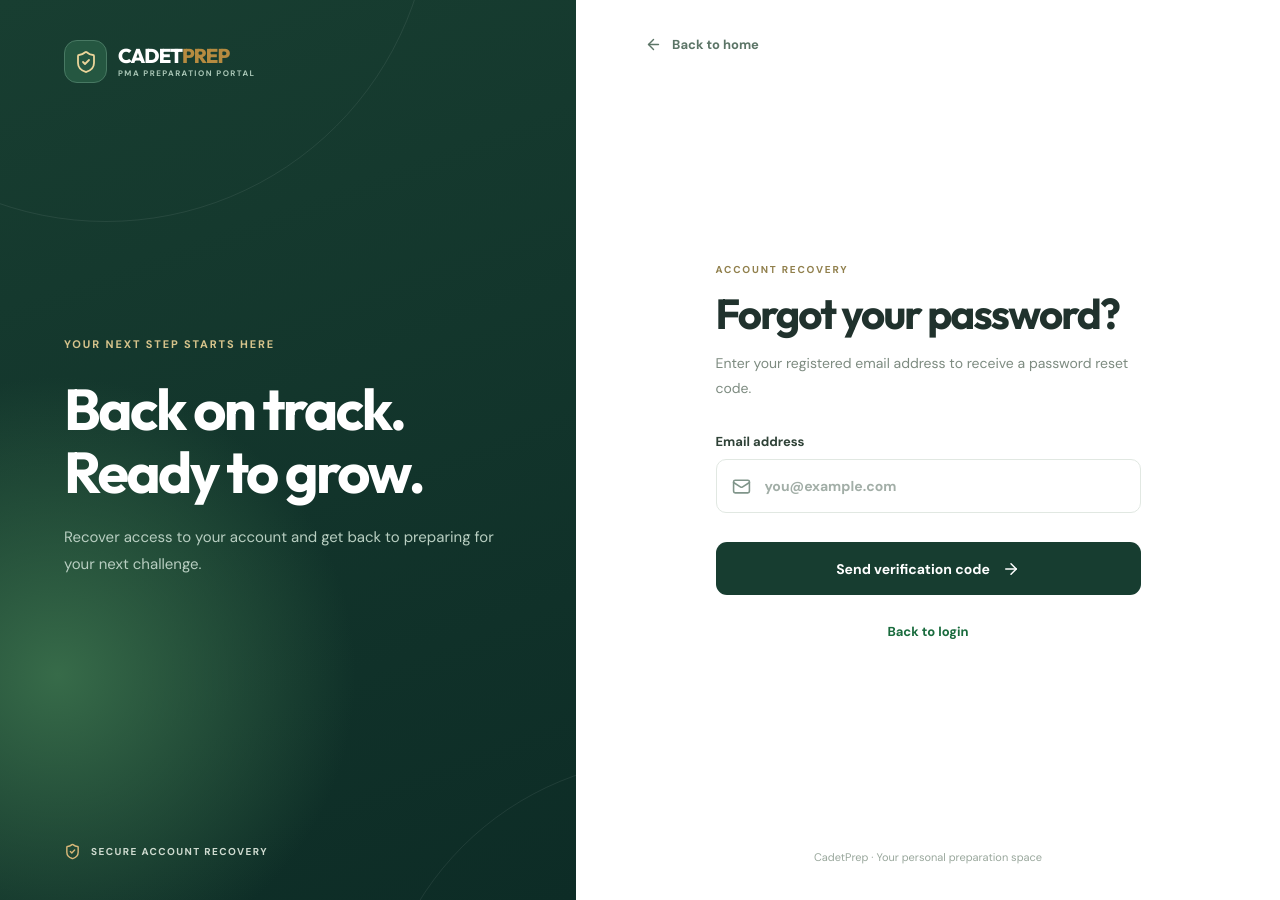
incorrect recovery codes cannot update any account password
Click the field with placeholder "you@example.com": (944, 486) [762,476,1124,496]
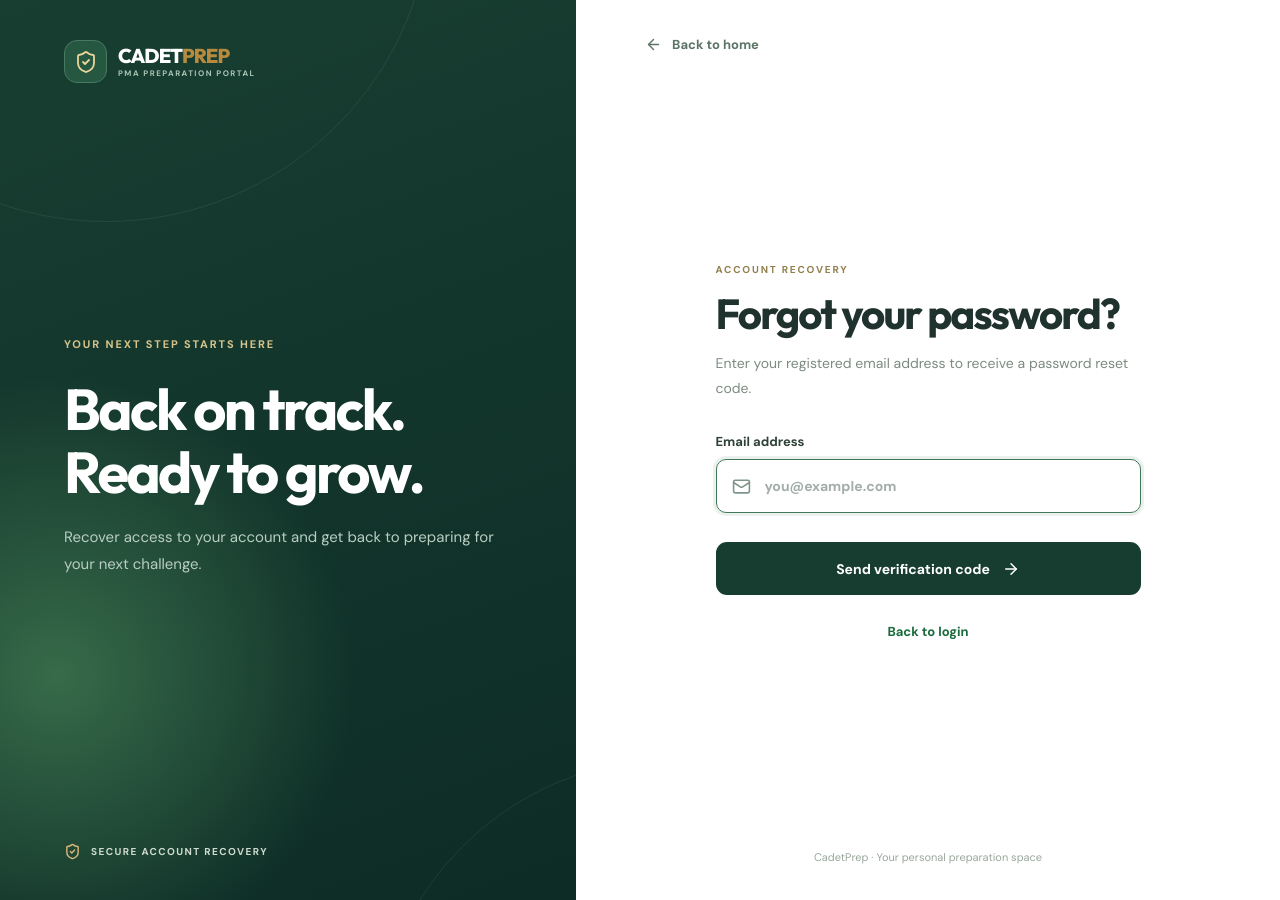
Type keys "cadet@example.test"
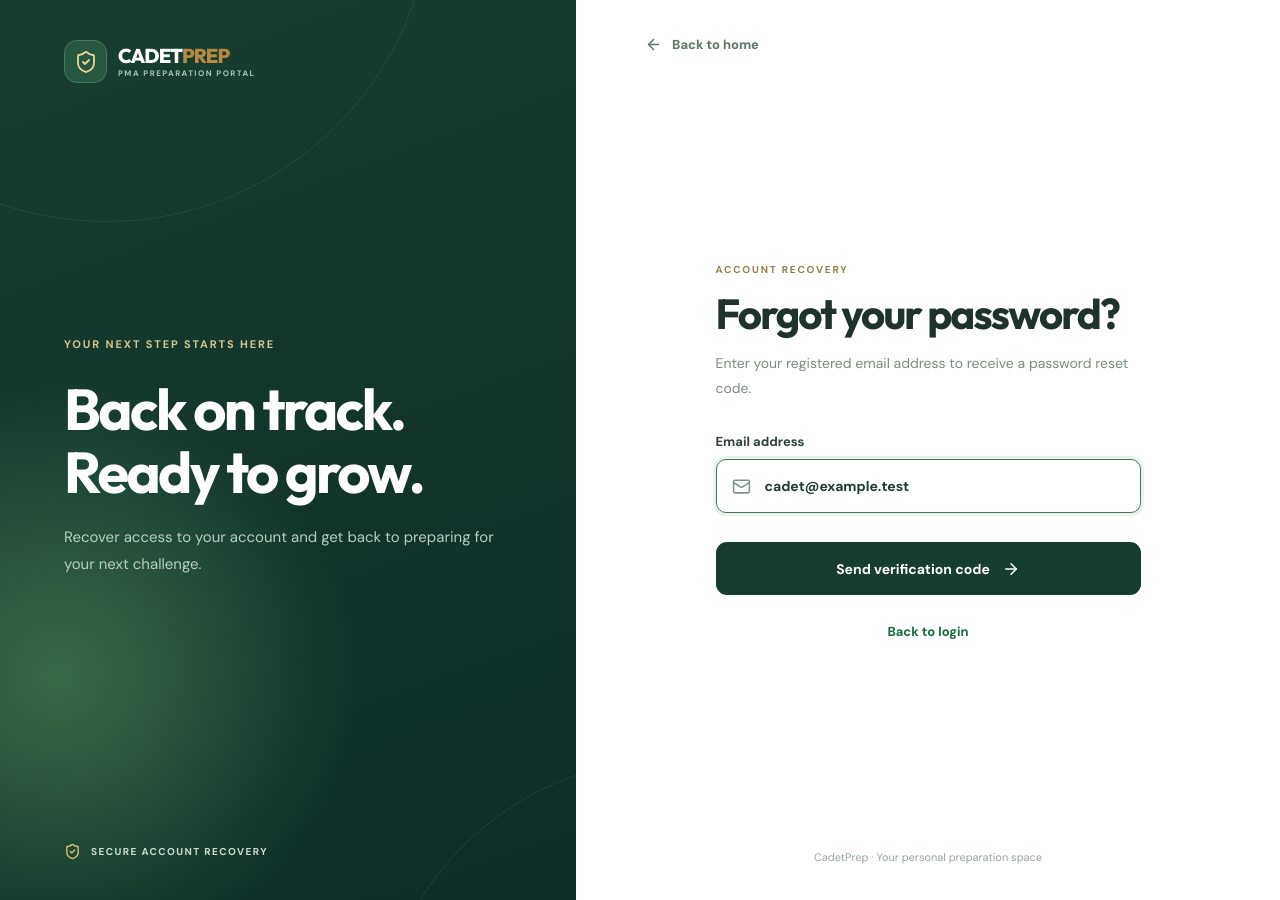
Click the button "Send verification code": (928, 569) [716,542,1140,595]
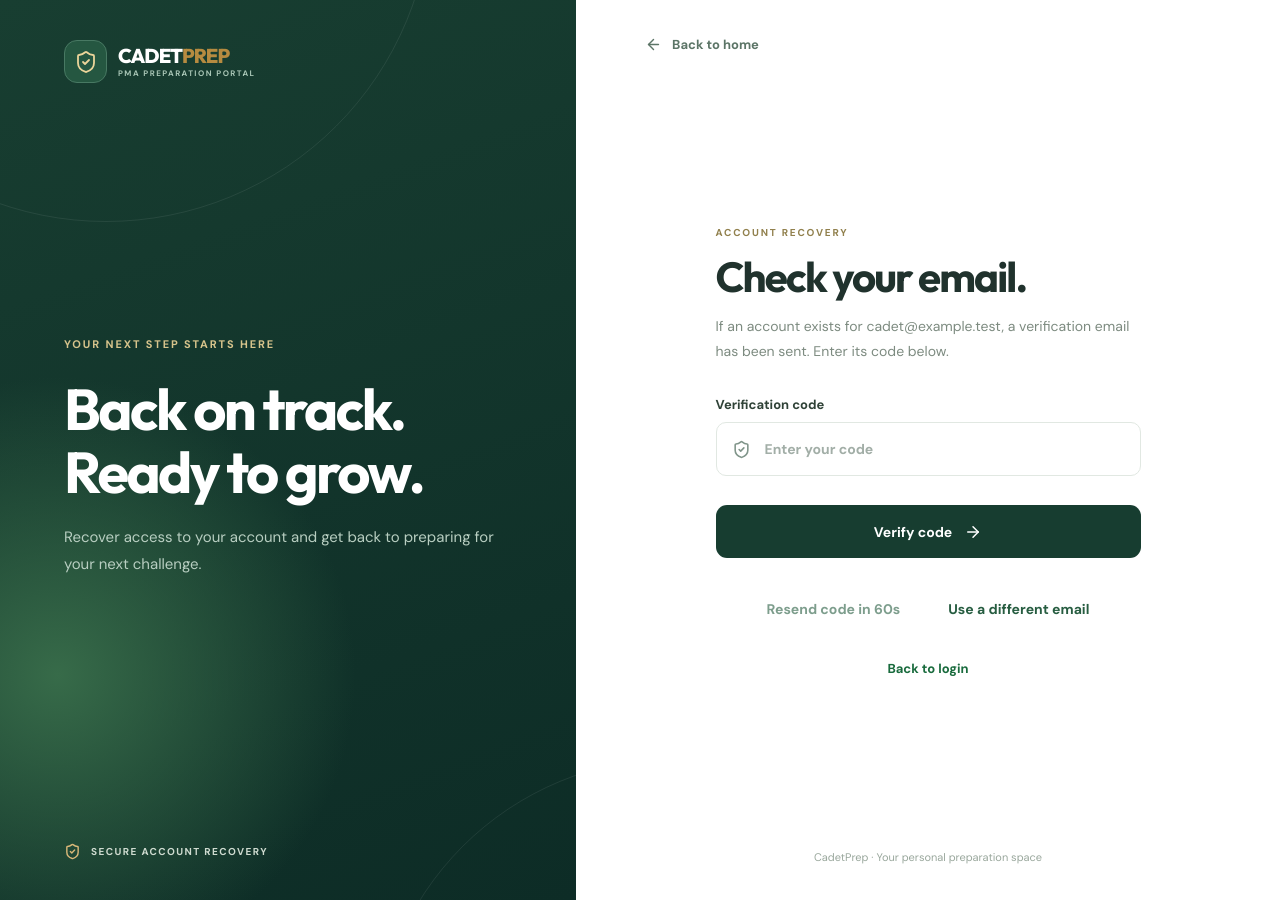
Click the field with placeholder "Enter your code": (944, 449) [762,439,1124,459]
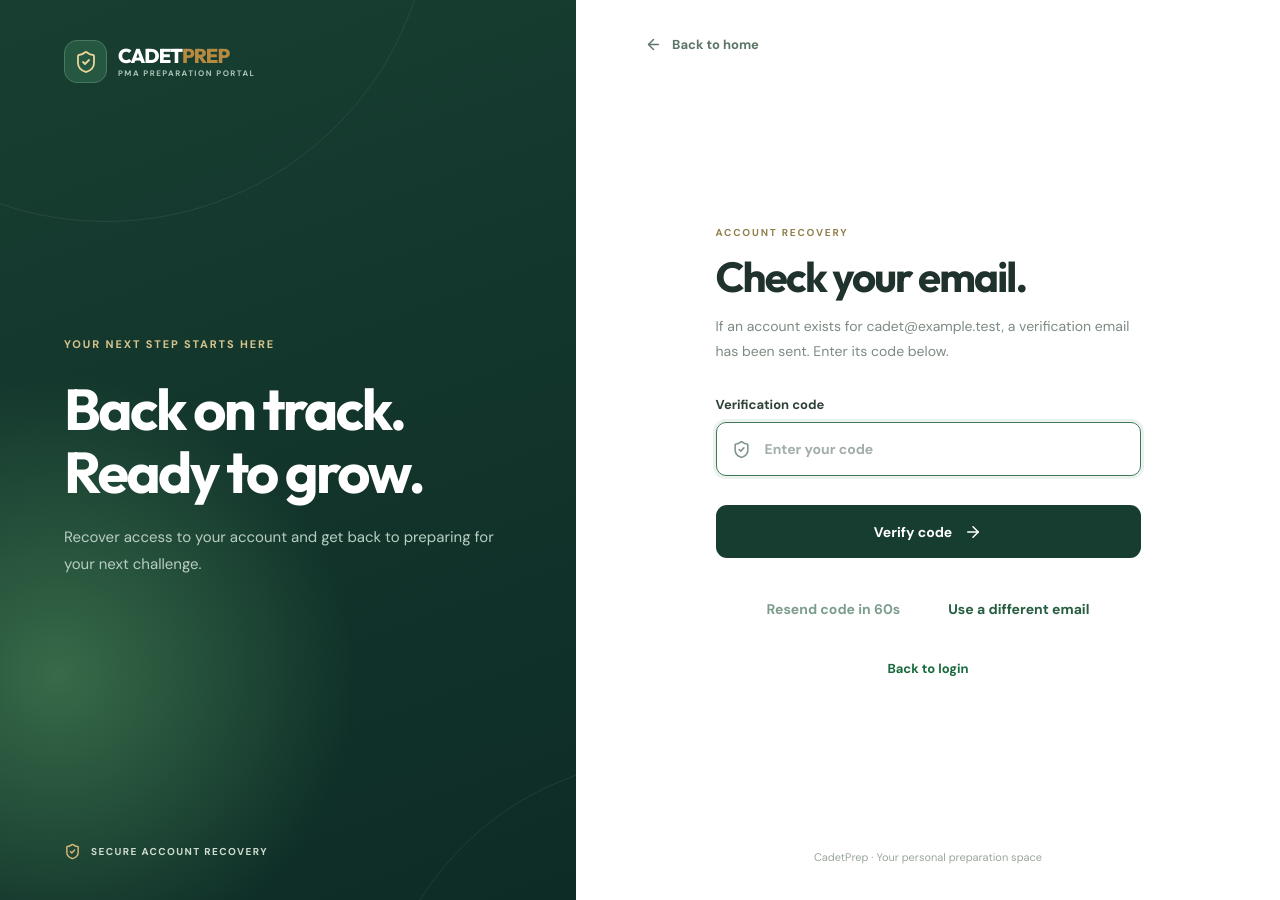
Type keys "123456"
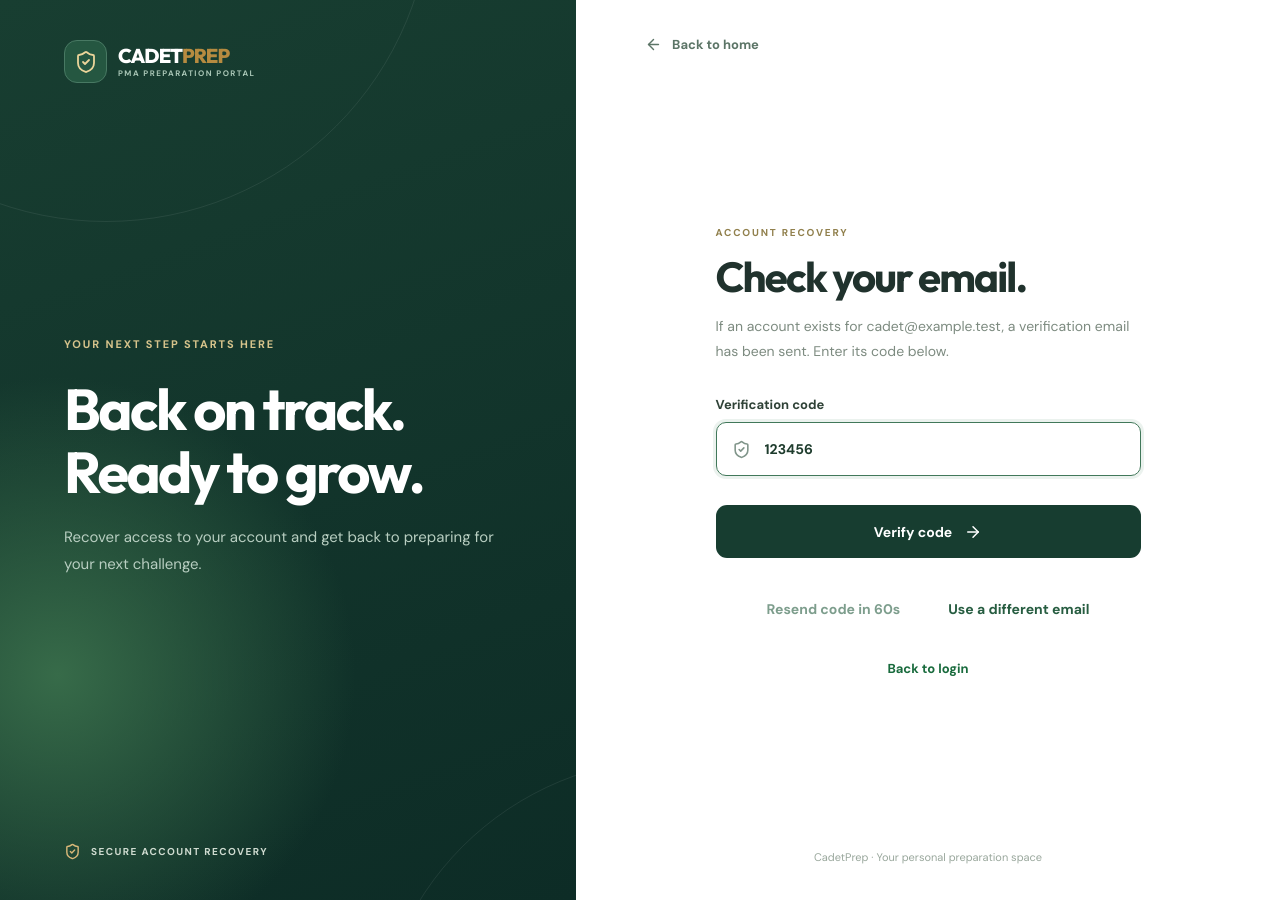
Click the button "Verify code": (928, 532) [716,505,1140,558]
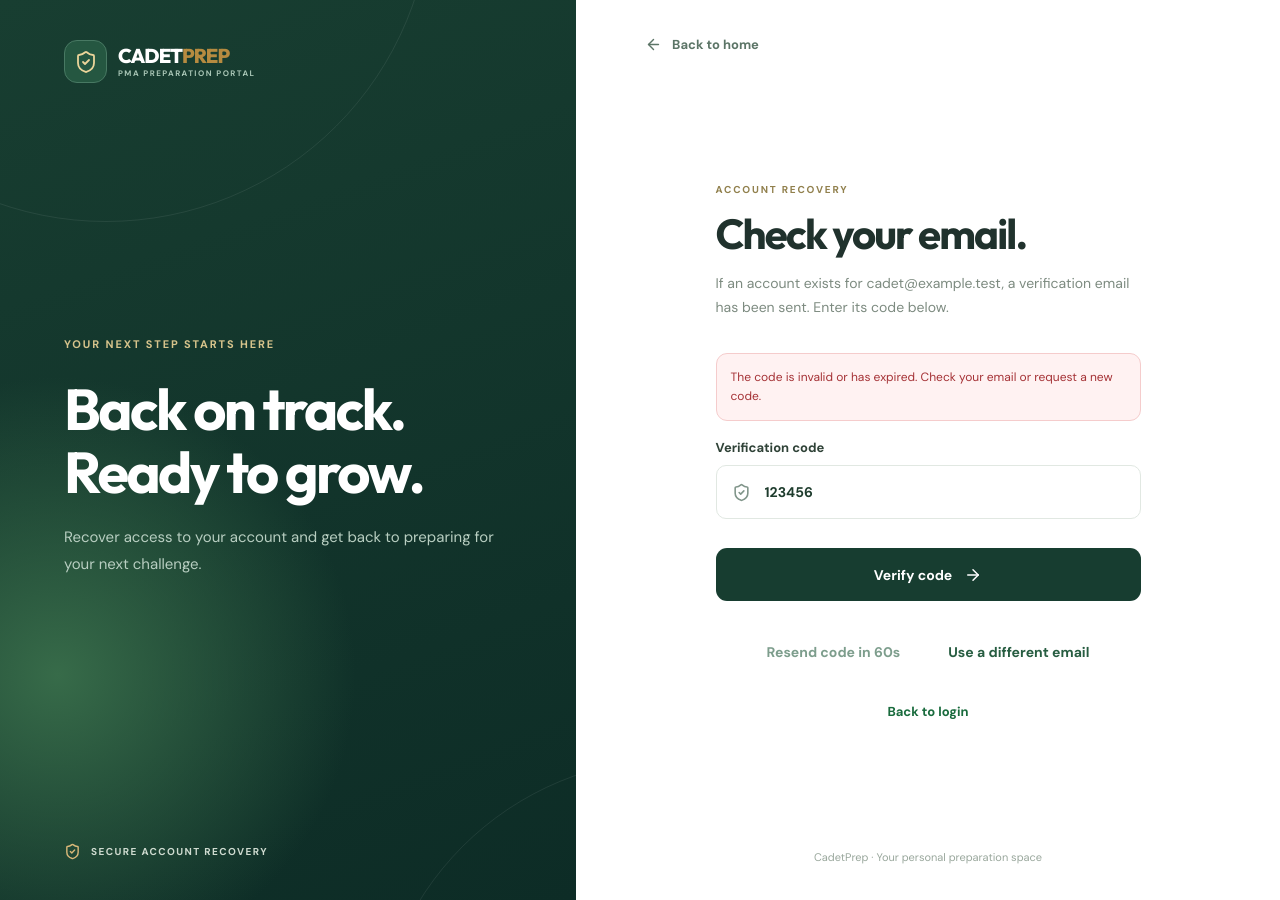
Check: the message shows "invalid or has expired", box [730,369,1112,404]
